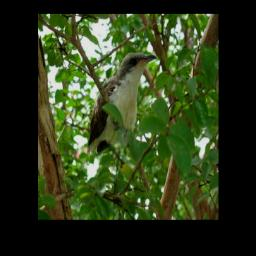Cuckoo: (86, 51, 155, 158)
